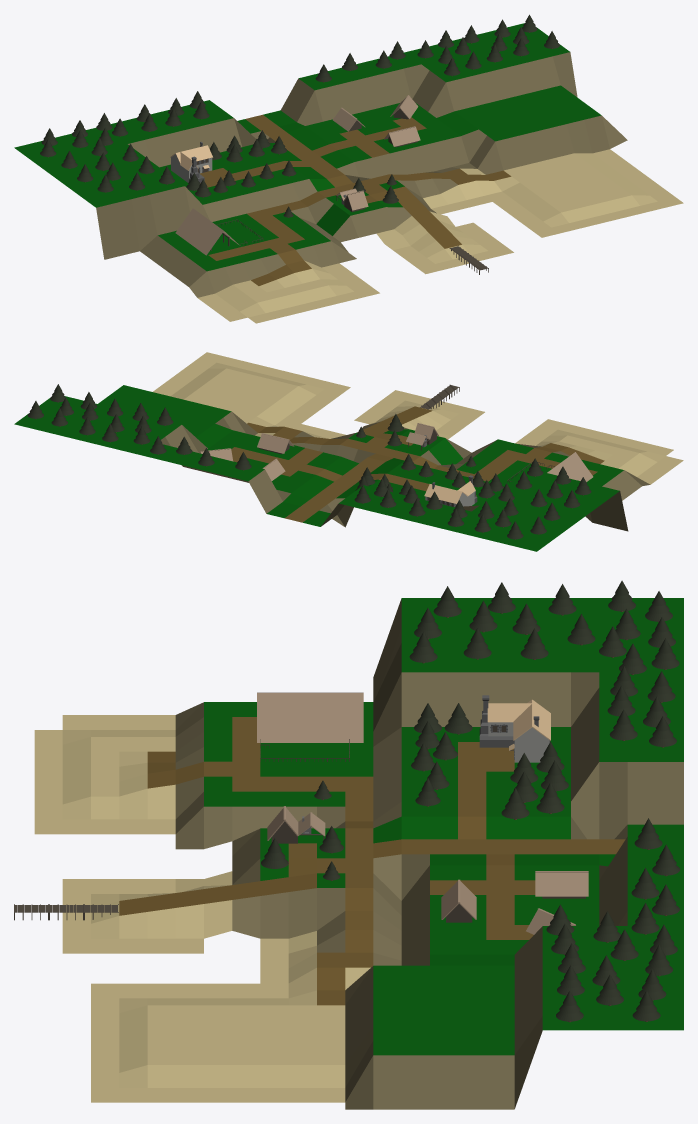
The model's file is starter_coast.glb.
3 views of the same model, one above another, from view 1: azimuth 30°, elevation 25°; view 2: azimuth 150°, elevation 25°; view 3: azimuth 270°, elevation 25° (orthographic). The views are drawn at different scales.
Visible parts, largest first — view 1: Plane, barn, tavern, Blacksmith, House; view 2: Plane, tavern, barn, Blacksmith, House; view 3: Plane, barn, tavern, House.002, Blacksmith, House.
Boxes of the visible parts, bbox=[...] form: Plane: bbox=[14, 23, 683, 323]; barn: bbox=[175, 208, 263, 255]; tavern: bbox=[170, 141, 212, 183]; Blacksmith: bbox=[336, 188, 368, 211]; House: bbox=[384, 126, 420, 147]; Plane: bbox=[14, 352, 683, 551]; tavern: bbox=[424, 475, 477, 506]; barn: bbox=[507, 452, 593, 482]; Blacksmith: bbox=[406, 423, 438, 450]; House: bbox=[257, 433, 294, 454]; Plane: bbox=[34, 598, 683, 1109]; barn: bbox=[257, 692, 363, 761]; tavern: bbox=[479, 695, 550, 762]; House.002: bbox=[535, 871, 588, 898]; Blacksmith: bbox=[267, 806, 325, 843]; House: bbox=[441, 879, 476, 922].
Bounding box in the file's own units: 234 × 29.9 × 153.
